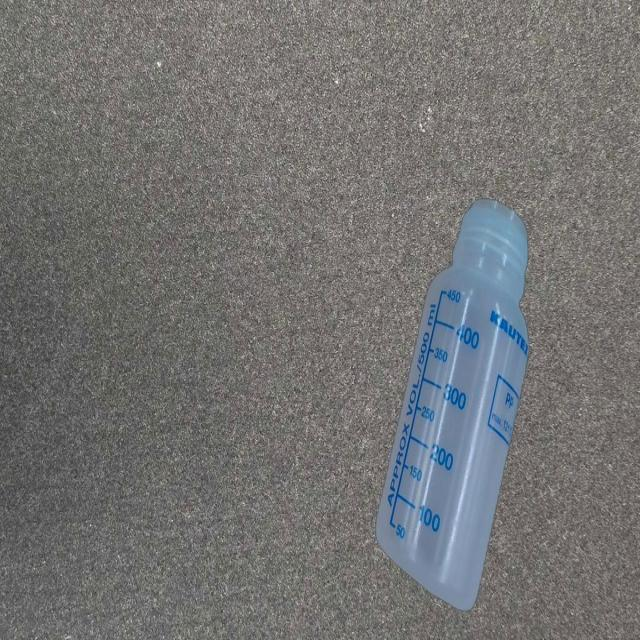bottle: (377, 197, 529, 615)
